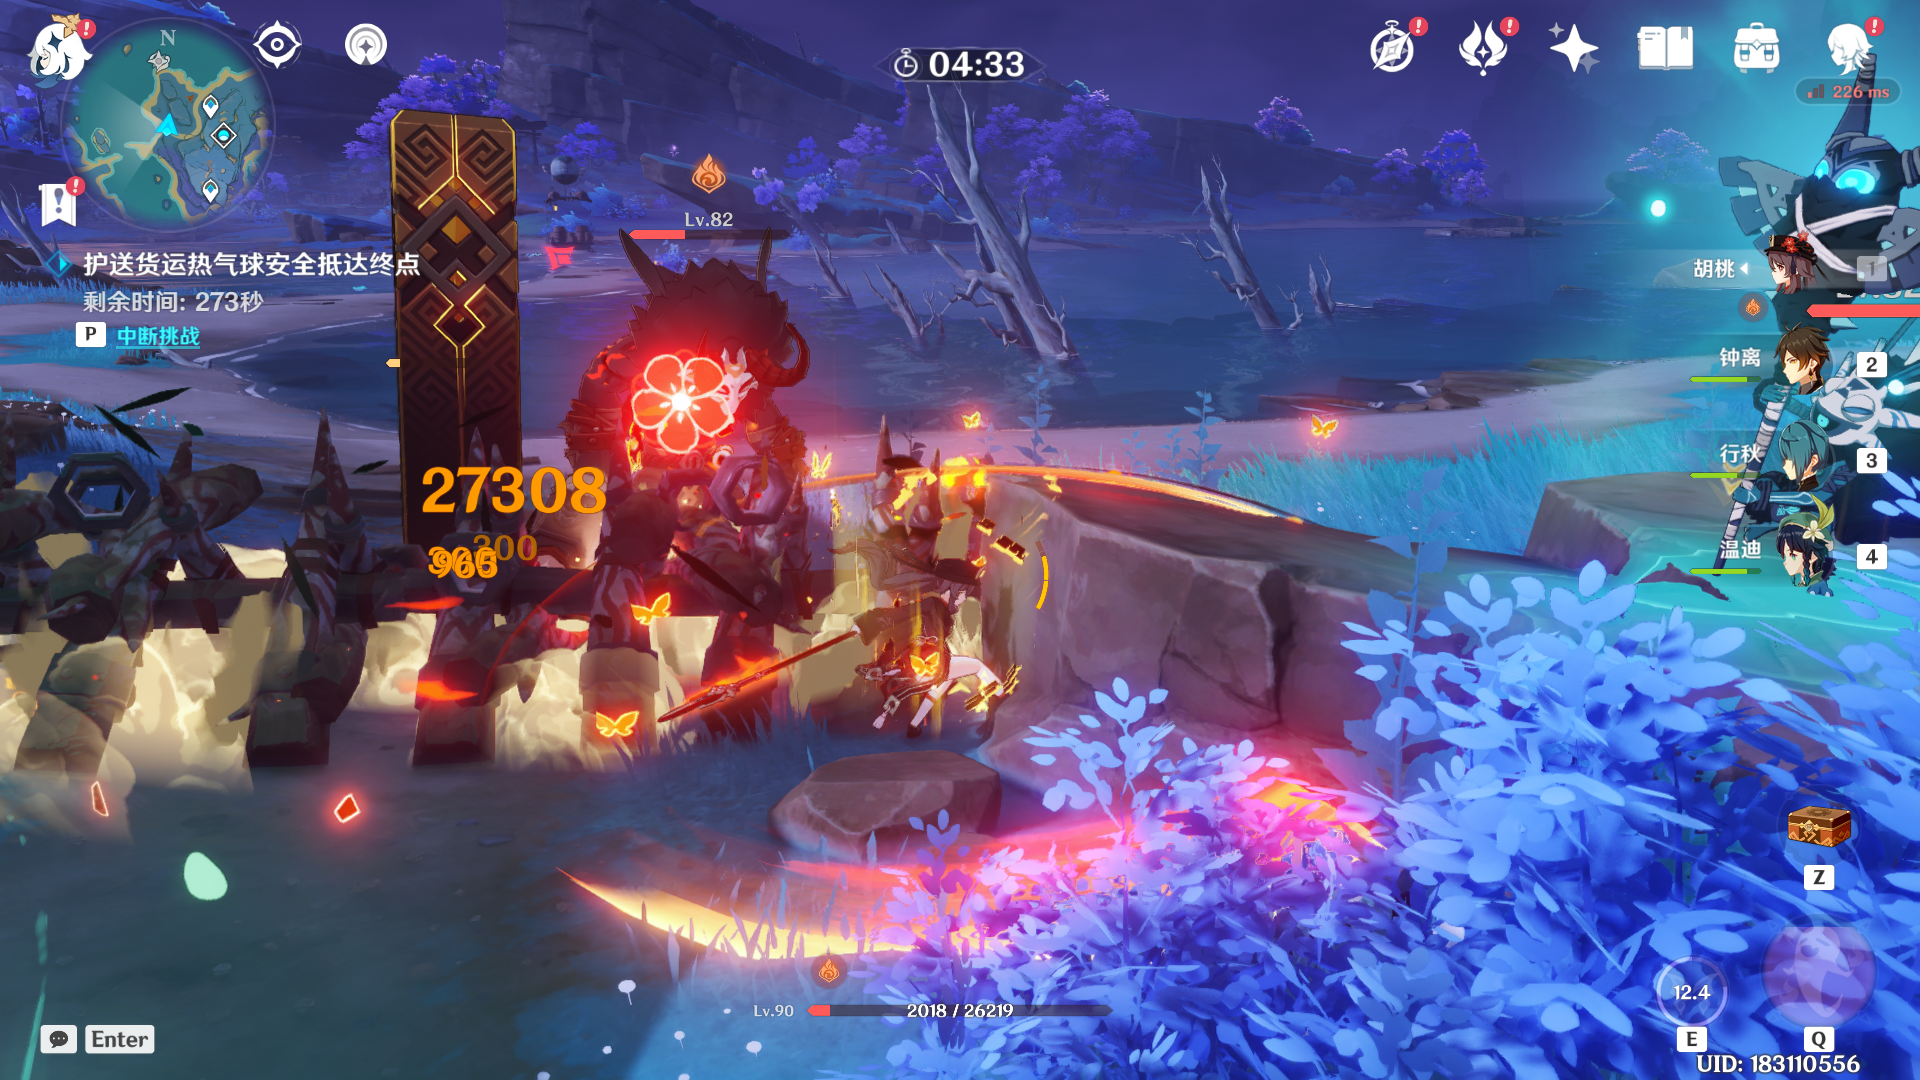bighili: (473, 206, 857, 742), (796, 574, 1062, 762)
hili: (1675, 62, 1920, 626)
